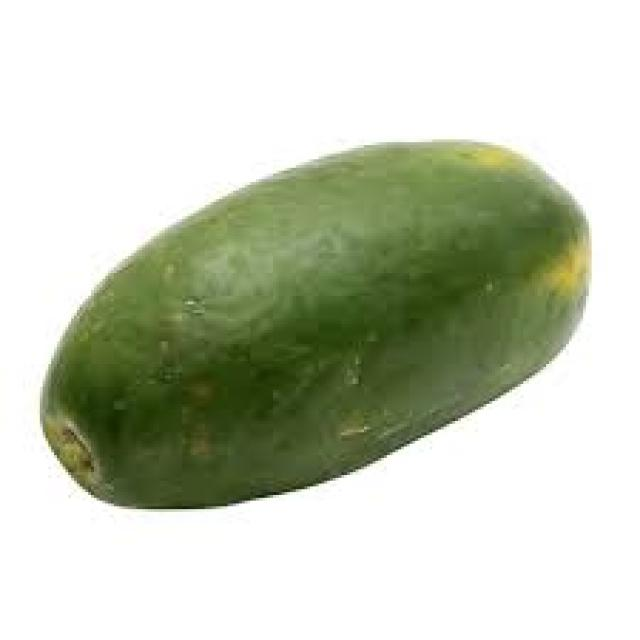Papaya: (79, 133, 557, 521)
